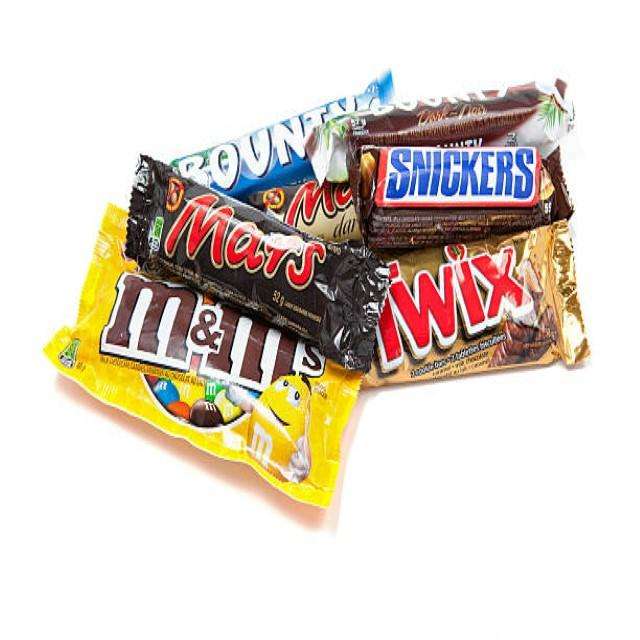mars_chocolate: (125, 152, 397, 368)
snickers_chocolate: (363, 148, 572, 224)
